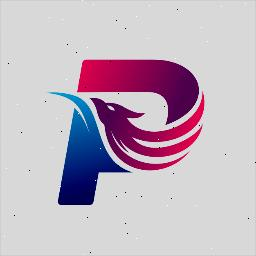p: (46, 52, 208, 208)
